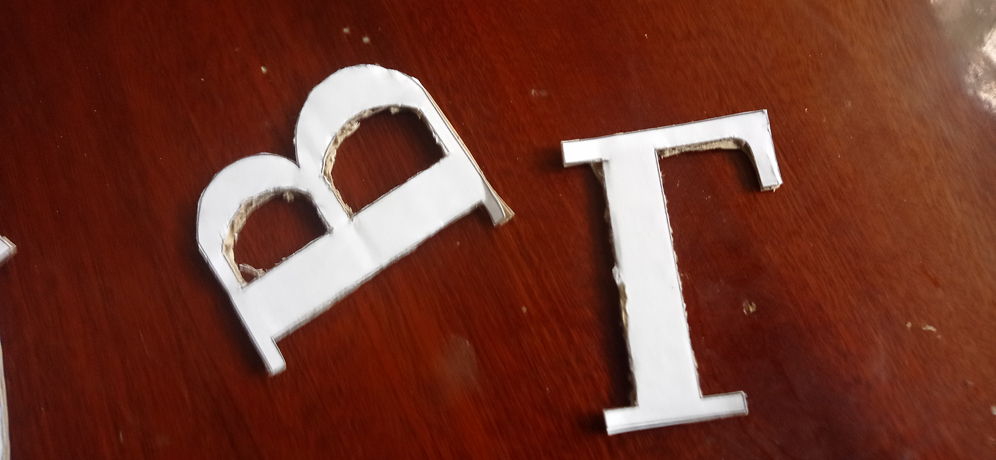g: (559, 106, 784, 438)
v: (194, 62, 516, 378)
